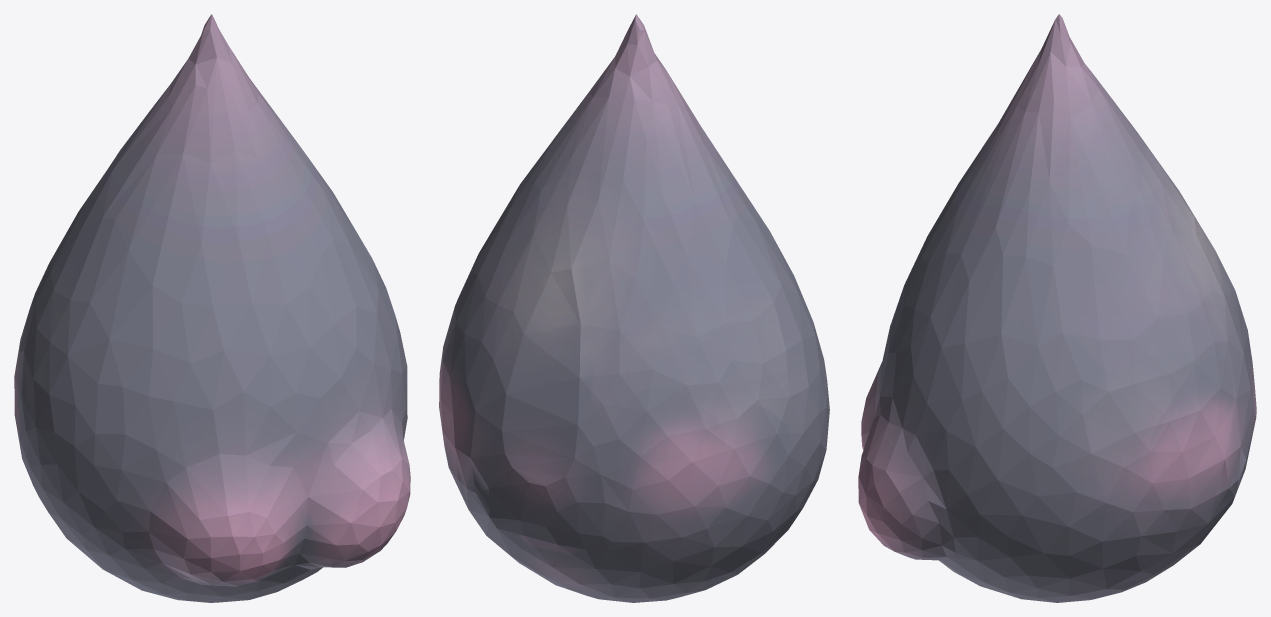
Rendered from drop_dude_face.dae.
3 views of the same model, side by side, from view 1: azimuth 30°, elevation 25°; view 2: azimuth 150°, elevation 25°; view 3: azimuth 270°, elevation 25° (orthographic).
Parts seen in each view (by area): view 1: head; view 2: head; view 3: head.
Boxes of the visible parts, left/top/right/bottom form: head: left=14, top=14, right=410, bottom=602; head: left=439, top=14, right=829, bottom=602; head: left=858, top=14, right=1256, bottom=602.
Size of the model in its own units: 1.31 by 1.32 by 2.09.
2 materials, 2 textured.
